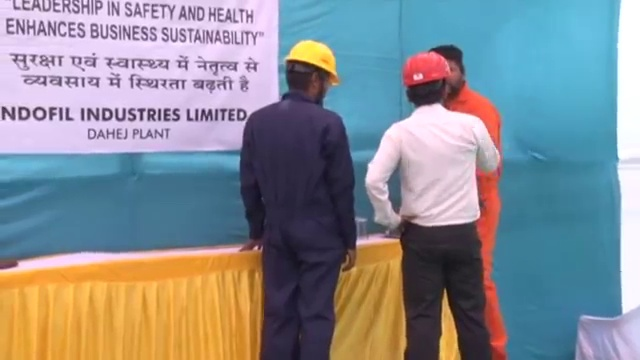helmet: (283, 38, 342, 86), (399, 51, 454, 87)
helmet_off: (446, 42, 467, 97)
helmet_on: (282, 38, 343, 102), (398, 49, 454, 112)
person: (365, 50, 501, 360), (238, 38, 357, 360), (434, 42, 510, 360)
